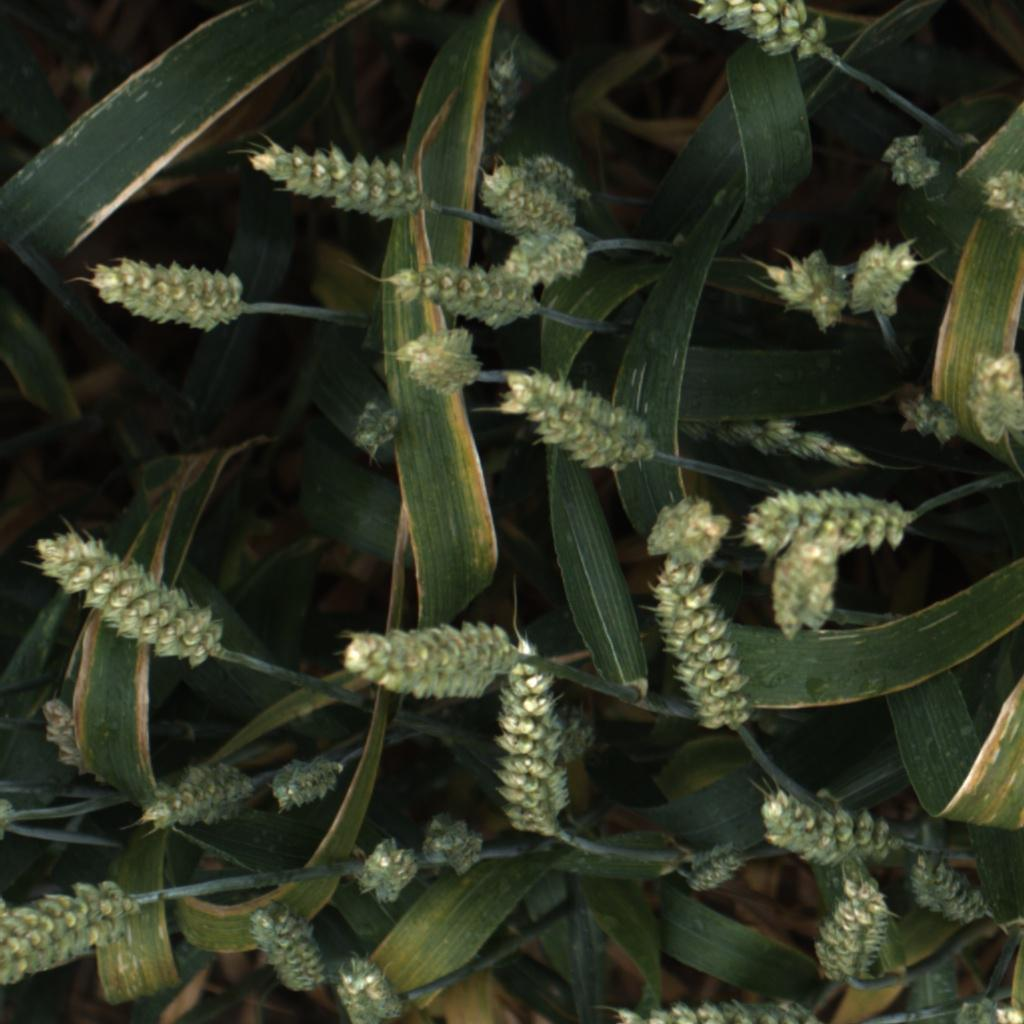0-0: (31, 517, 226, 667), (645, 556, 751, 738), (499, 362, 657, 478), (494, 640, 581, 843), (335, 614, 518, 705), (0, 868, 134, 988), (251, 136, 419, 227), (743, 484, 917, 565), (756, 780, 902, 874), (684, 407, 879, 474), (388, 247, 541, 330), (85, 258, 251, 333), (470, 130, 588, 226), (131, 755, 254, 836), (685, 0, 825, 71), (766, 539, 853, 644), (491, 683, 604, 763), (815, 873, 893, 986), (759, 240, 849, 337), (22, 686, 108, 781), (249, 897, 331, 995), (845, 230, 926, 328), (910, 842, 996, 930), (388, 321, 488, 395), (500, 222, 606, 291), (647, 486, 733, 571), (470, 40, 543, 139), (965, 347, 1024, 446), (266, 743, 345, 815), (333, 954, 411, 1024), (342, 388, 404, 470), (354, 833, 423, 906), (424, 801, 485, 875), (982, 166, 1024, 264), (682, 834, 748, 895), (909, 389, 966, 454), (881, 126, 938, 191)
